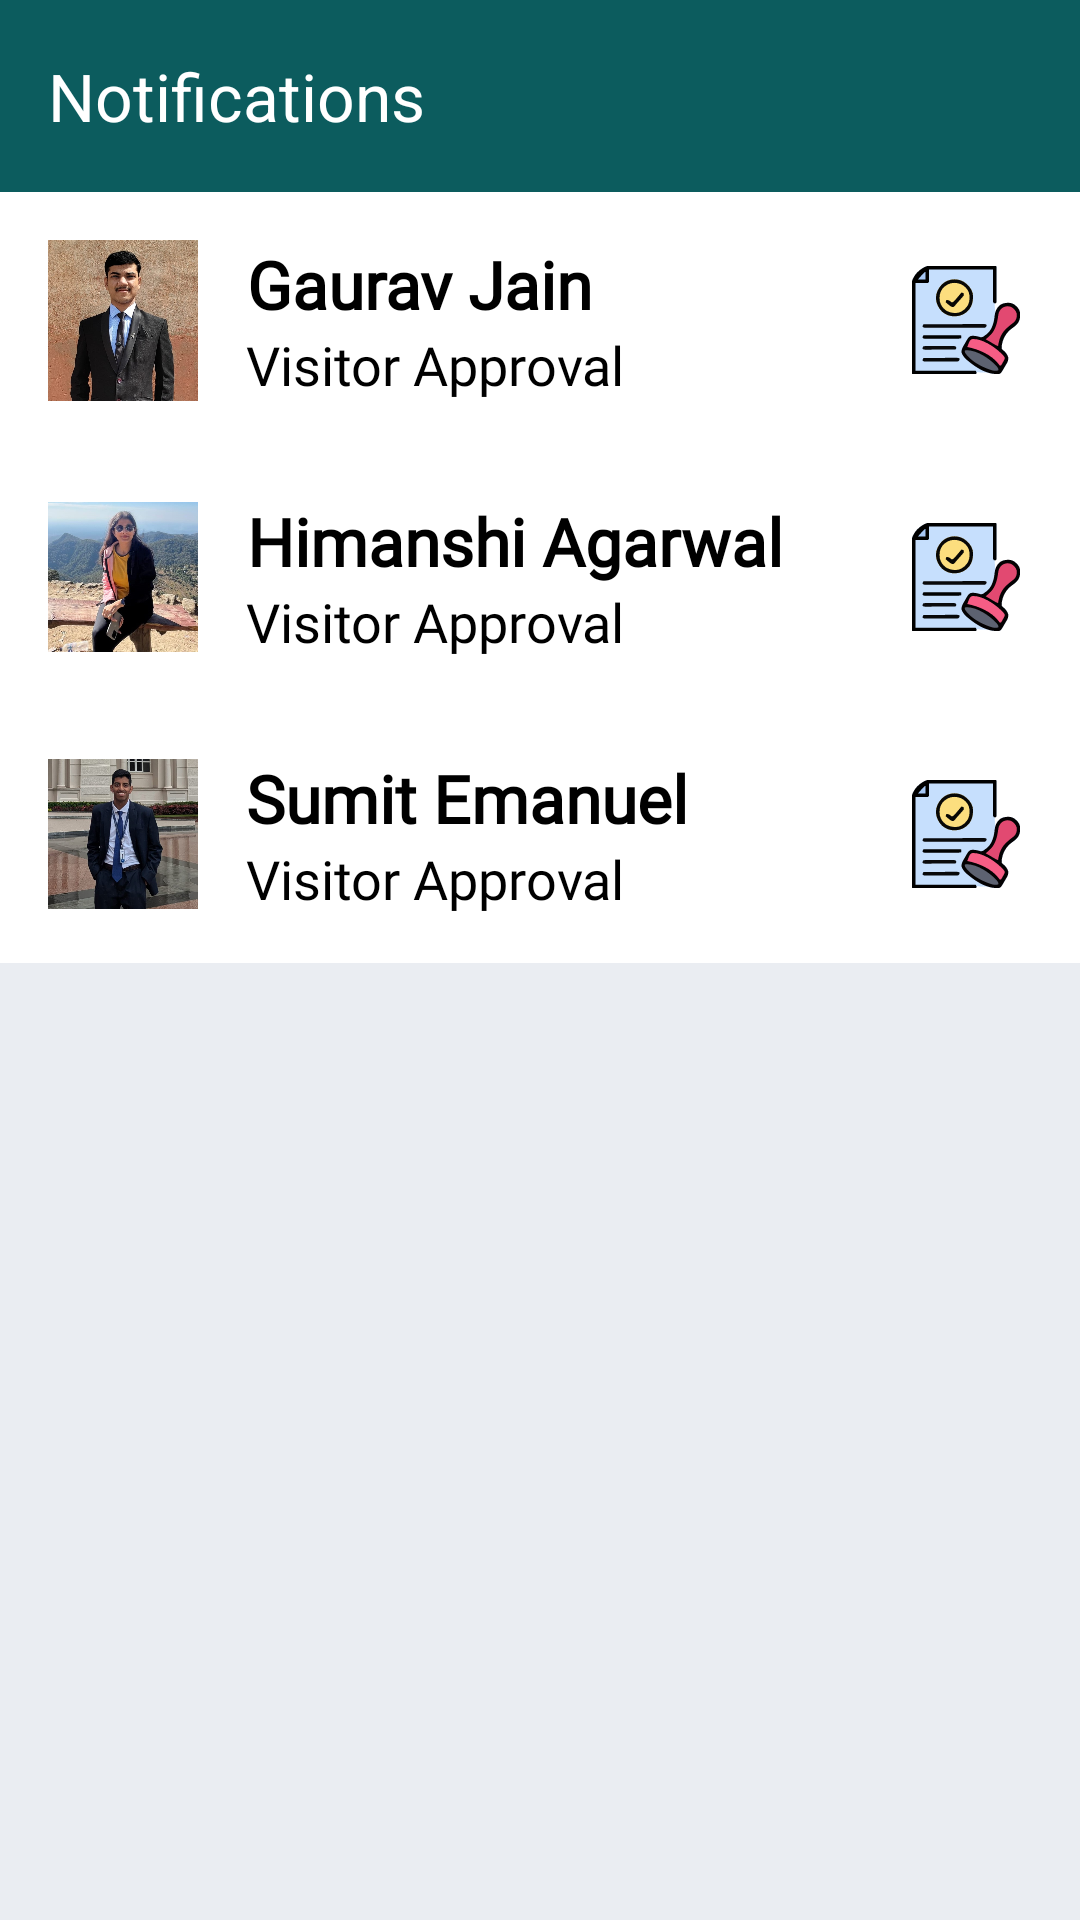

Icon bounding boxes for this 1080px x 1920px phone screenshot, format (x1, y1, x2, y2):
approved: (912, 266, 1020, 374), (912, 523, 1020, 631), (912, 780, 1020, 888)
